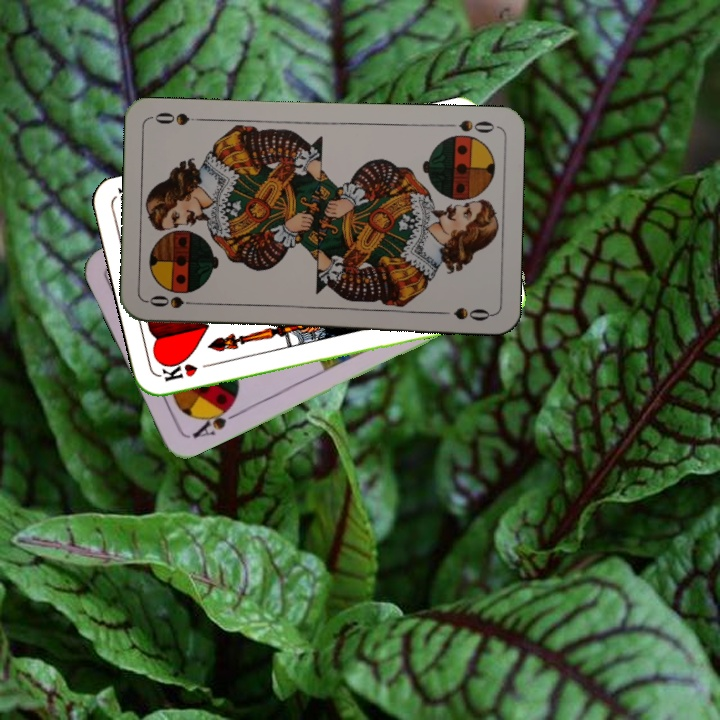HK: (157, 358, 217, 384)
SA: (188, 399, 242, 441)
SO: (145, 291, 204, 311), (439, 116, 497, 136)
